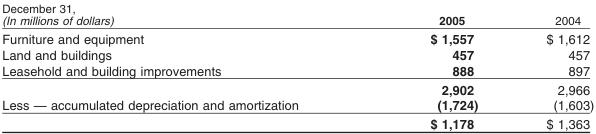table: (1, 0, 593, 131)
table column: (1, 0, 363, 131), (363, 0, 511, 131), (511, 0, 593, 131)
table column header: (1, 0, 593, 29)
table row: (1, 0, 593, 29), (1, 96, 593, 114), (1, 29, 593, 46), (1, 62, 593, 79), (1, 79, 593, 96), (1, 114, 593, 131), (1, 46, 593, 62)
